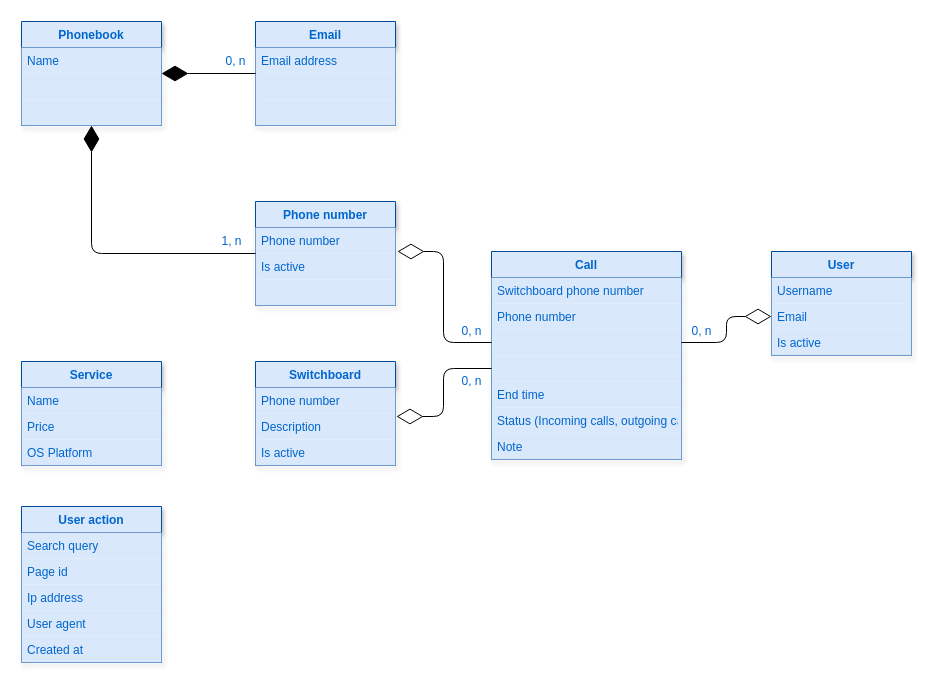
This 935x687 diagram has some shape labels left out. The shapes that lost their labels are listed below. From the top down, each one's centre as x and y in pixels, then its label:
At [586,342]: "Consultant".
At [586,368]: "Start time".
